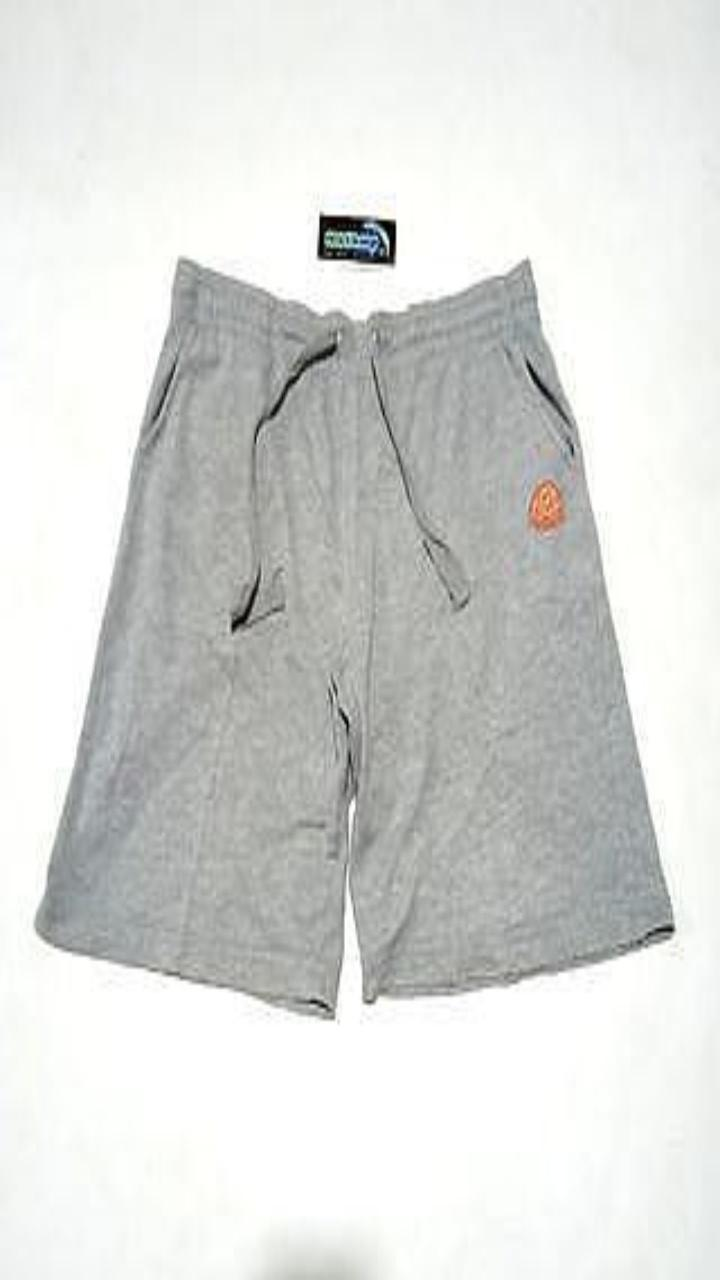Shorts: (35, 258, 673, 1017)
